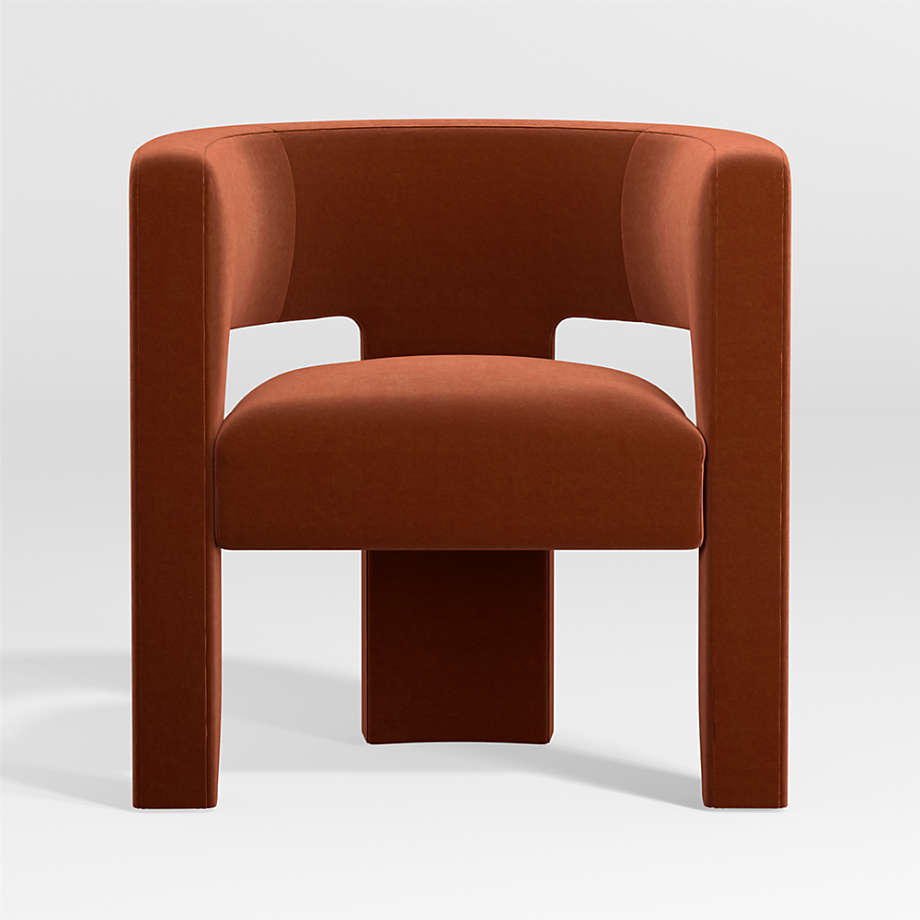kursi: (127, 115, 789, 810)
